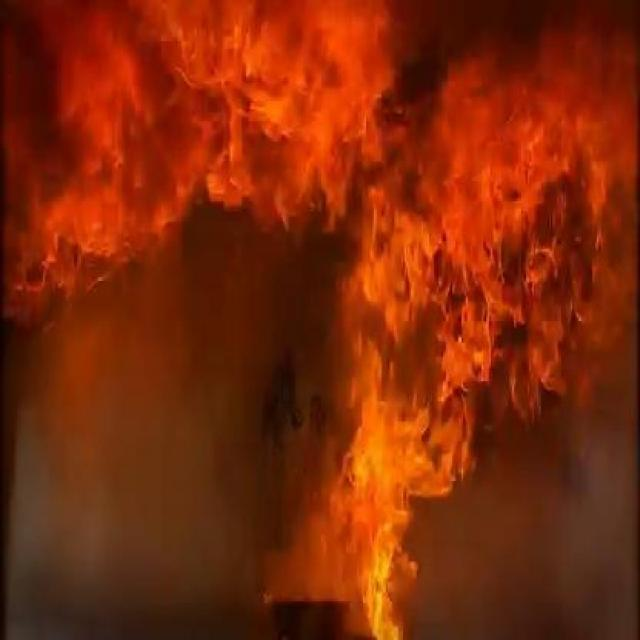fire: (9, 9, 340, 269), (441, 49, 634, 488), (350, 49, 432, 640), (266, 448, 348, 598)
